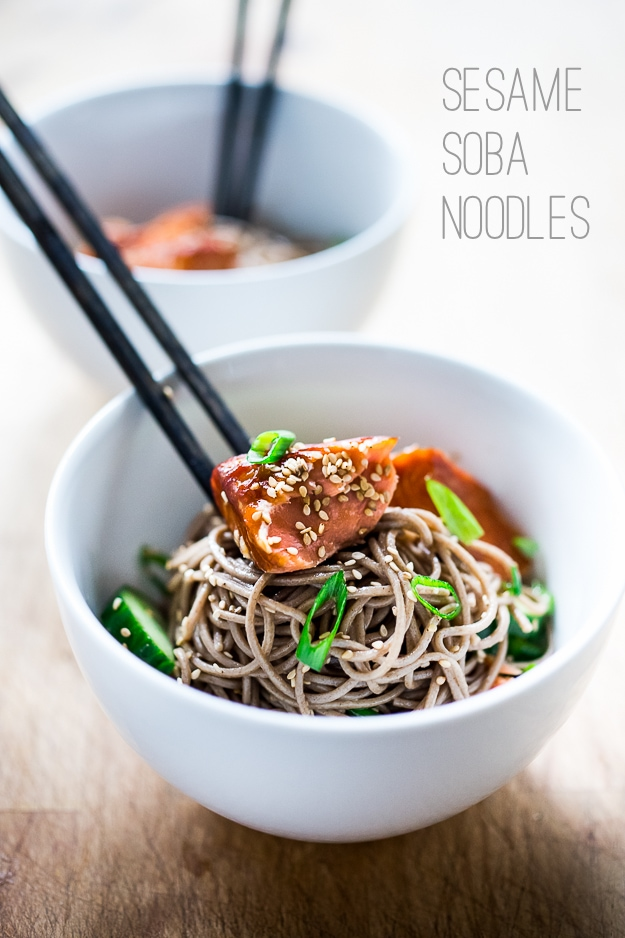Soba: (159, 475, 530, 744)
